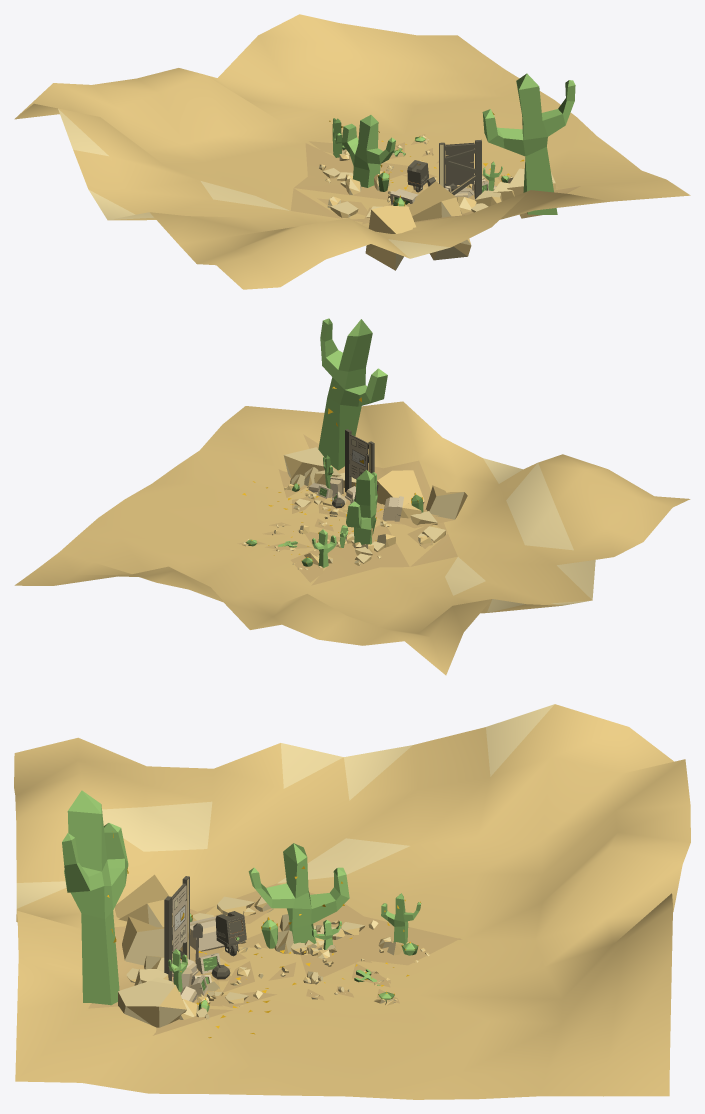
The model's file is pconwheel_copy_3_lower.glb.
3 renders of one model, top to bottom at view 1: azimuth 30°, elevation 25°; view 2: azimuth 150°, elevation 25°; view 3: azimuth 270°, elevation 25°, orthographic. The views are drawn at different scales.
Parts seen in each view (by area): view 1: floor, cactus.005, cactus, Ad-mywork, rock.061, rock.062, pc, rock.055; view 2: floor, cactus.005, cactus, Ad-mywork, rock.061, rock.062, rock.055; view 3: floor, cactus.005, cactus, rock.055, Ad-mywork, rock.062, rock.061, pc, shadow.013, cactus.001, broken-pc.006.
Boxes of the visible parts, x1,y1,x2,y2 form: floor: (14, 14, 690, 289); cactus.005: (482, 73, 575, 214); cactus: (341, 115, 395, 187); Ad-mywork: (439, 139, 481, 199); rock.061: (406, 181, 471, 260); rock.062: (365, 205, 415, 270); pc: (407, 160, 428, 194); rock.055: (507, 168, 555, 218); floor: (14, 401, 690, 675); cactus.005: (318, 318, 387, 470); cactus: (346, 469, 377, 544); Ad-mywork: (345, 429, 374, 492); rock.061: (377, 470, 424, 506); rock.062: (425, 485, 467, 519); rock.055: (283, 447, 325, 478); floor: (14, 704, 690, 1099); cactus.005: (62, 790, 128, 1005); cactus: (248, 843, 349, 943); rock.055: (118, 981, 186, 1027); Ad-mywork: (164, 876, 189, 981); rock.062: (115, 874, 172, 927); rock.061: (122, 916, 190, 965); pc: (215, 911, 246, 963); shadow.013: (344, 938, 460, 965); cactus.001: (381, 893, 421, 944); broken-pc.006: (190, 916, 224, 951).
Bounding box in the file's own units: 53.38 × 20.68 × 47.2.
Materials: 1 (1 with a texture image).
